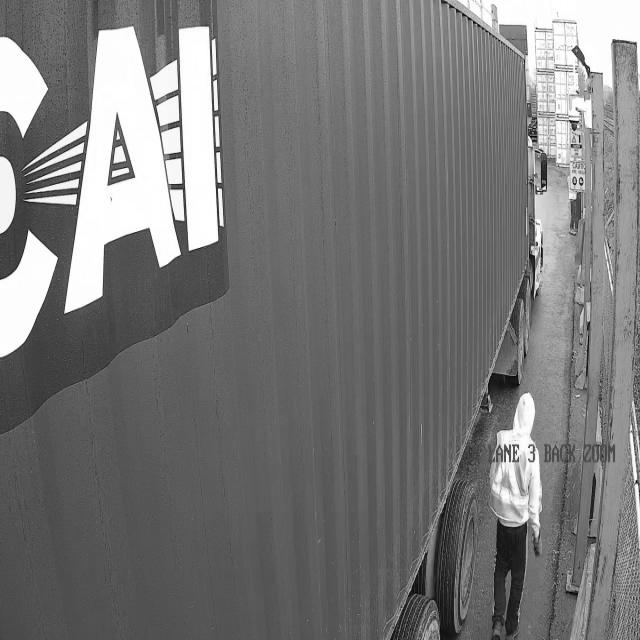container_company_logo: (3, 0, 245, 361), (531, 527, 539, 527)
driver: (484, 388, 535, 627)
truck_with_container: (0, 0, 542, 639)
